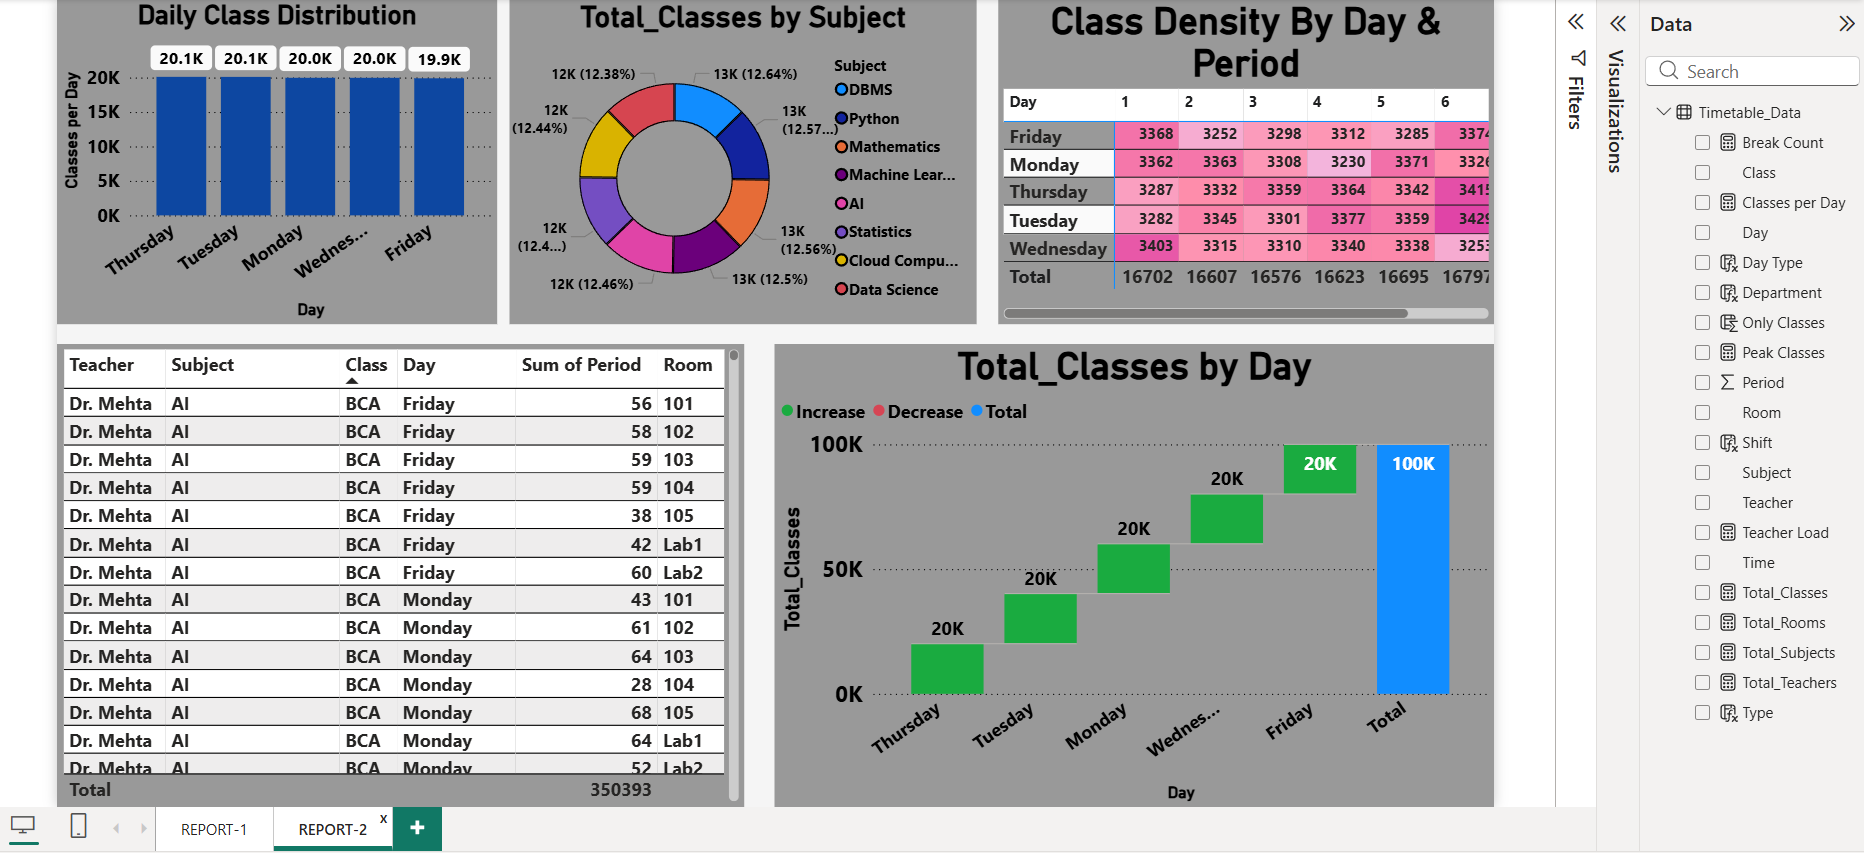

What the dashboard file says about the page in this screenshot:
{"tool":"powerbi","page":{"name":"REPORT-2","canvas":[1280,720],"ordinal":1},"visuals":[{"type":"columnChart","title":"Daily Class Distribution","fields":{"Category":["Timetable_Data.Day"],"Y":["Timetable_Data.Classes per Day"]},"box":[0,0,392.2,289.7],"z":0},{"type":"tableEx","fields":{"Values":["Timetable_Data.Teacher","Timetable_Data.Subject","Timetable_Data.Class","Timetable_Data.Day","Sum(Timetable_Data.Period)","Timetable_Data.Room"]},"box":[0,307.7,612,412.5],"z":1000},{"type":"donutChart","fields":{"Category":["Timetable_Data.Subject"],"Y":["Timetable_Data.Total_Classes"]},"box":[403.5,0,416.3,289.5],"z":2000},{"type":"waterfallChart","fields":{"Category":["Timetable_Data.Day"],"Y":["Timetable_Data.Total_Classes"]},"box":[639.1,307.7,641.3,412.5],"z":3000},{"type":"pivotTable","title":"Class Density By Day & Period","fields":{"Rows":["Timetable_Data.Day"],"Columns":["Timetable_Data.Period"],"Values":["Timetable_Data.Total_Classes"]},"box":[838.4,0,441.9,289.5],"z":4000}]}

Visuals, with their boxes in screenshot pixels (x1, y1, x2, y2):
"Daily Class Distribution" columnChart: locate(49, 0, 491, 322)
tableEx - Timetable_Data.Teacher x Timetable_Data.Subject: locate(49, 342, 739, 808)
donutChart - Timetable_Data.Subject x Timetable_Data.Total_Classes: locate(504, 0, 974, 322)
waterfallChart - Timetable_Data.Day x Timetable_Data.Total_Classes: locate(770, 342, 1494, 808)
"Class Density By Day & Period" pivotTable: locate(995, 0, 1494, 322)
